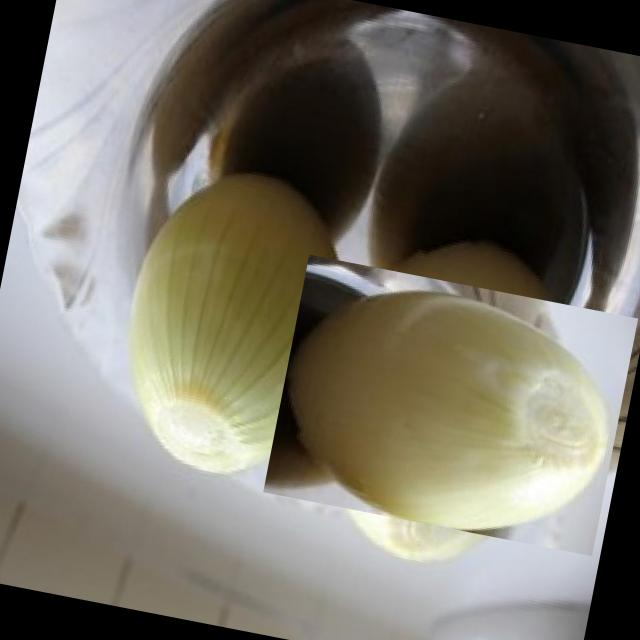Onion: (281, 236, 620, 574), (90, 132, 372, 504)
